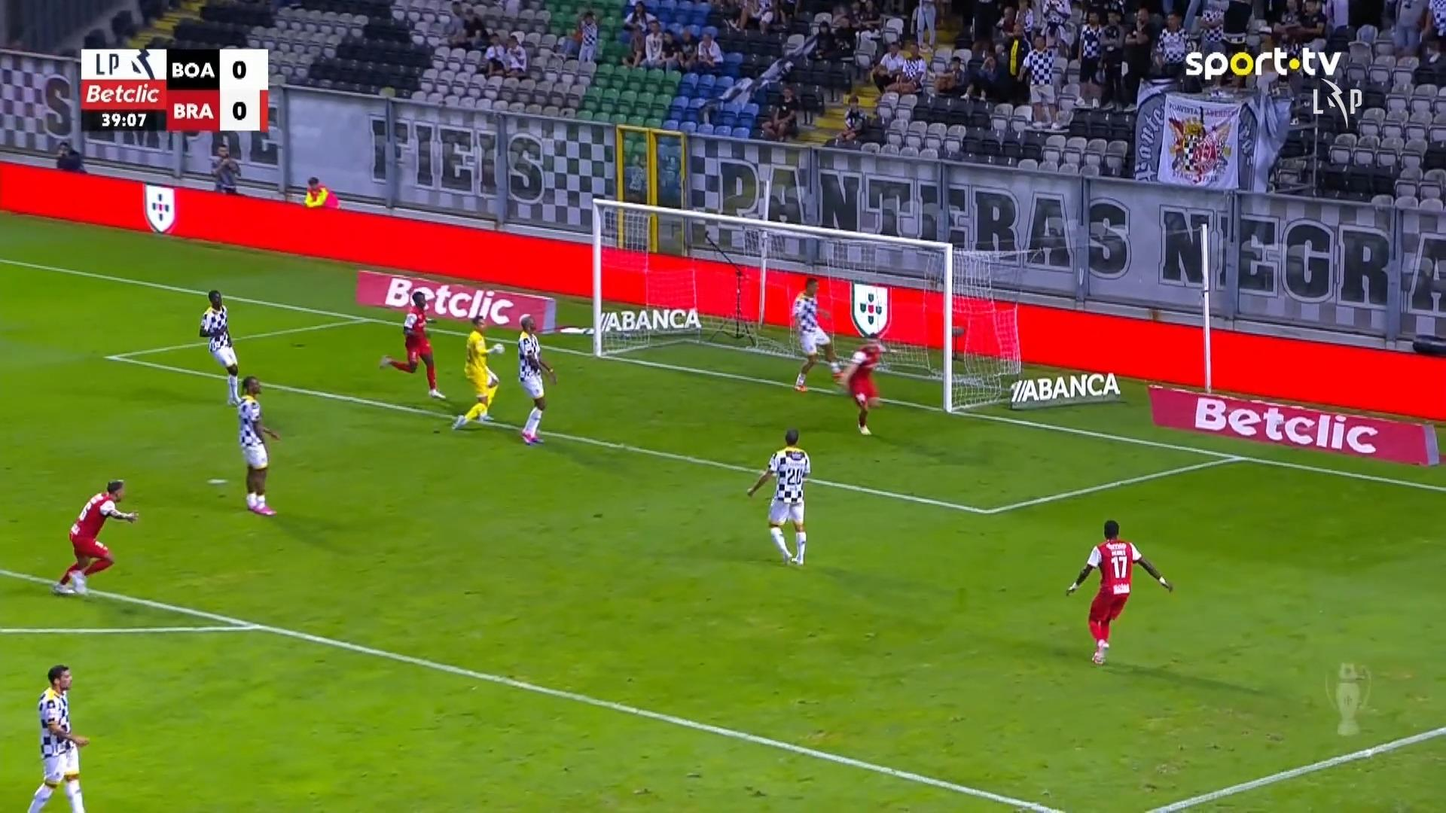goalkeeper: (450, 314, 505, 429)
player: (1065, 519, 1173, 665), (50, 477, 139, 596), (26, 663, 90, 811), (746, 428, 811, 566), (378, 289, 447, 400), (234, 375, 281, 516), (789, 276, 844, 392), (515, 312, 557, 445), (836, 331, 888, 435), (198, 288, 239, 406)
